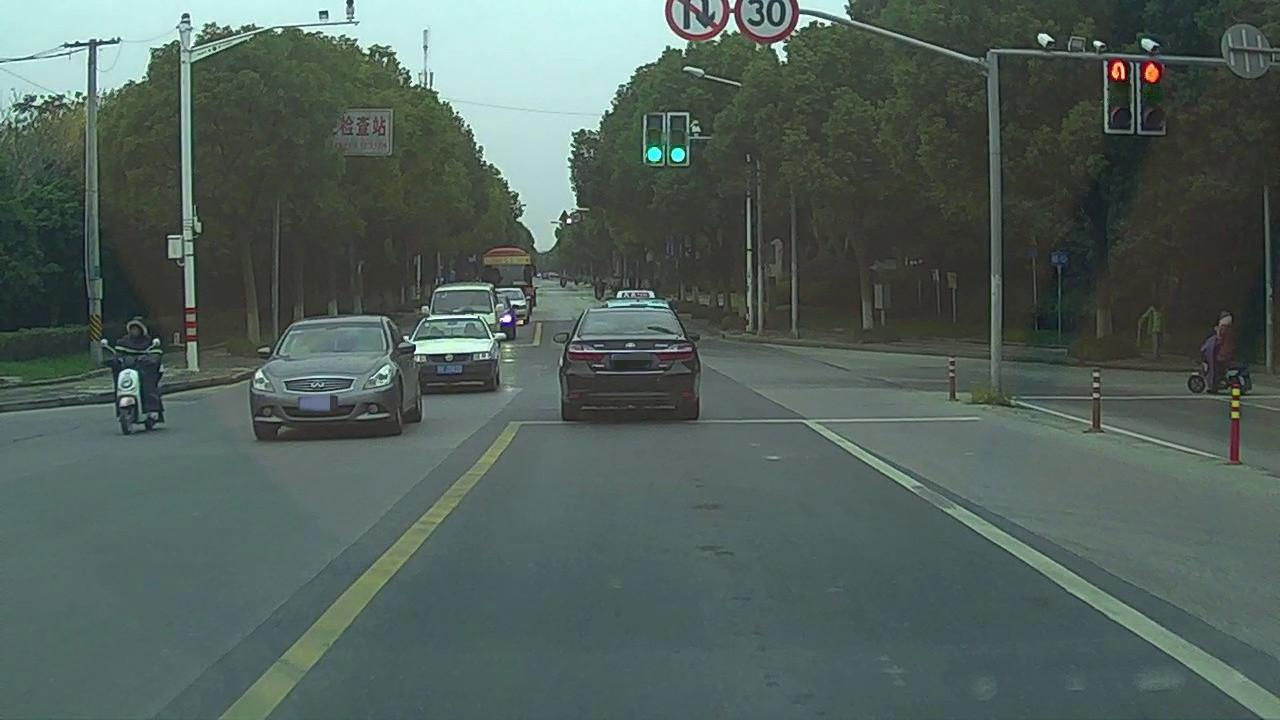traffic_light: (1106, 58, 1133, 132), (1140, 61, 1163, 134), (644, 116, 663, 164), (670, 115, 688, 165)
